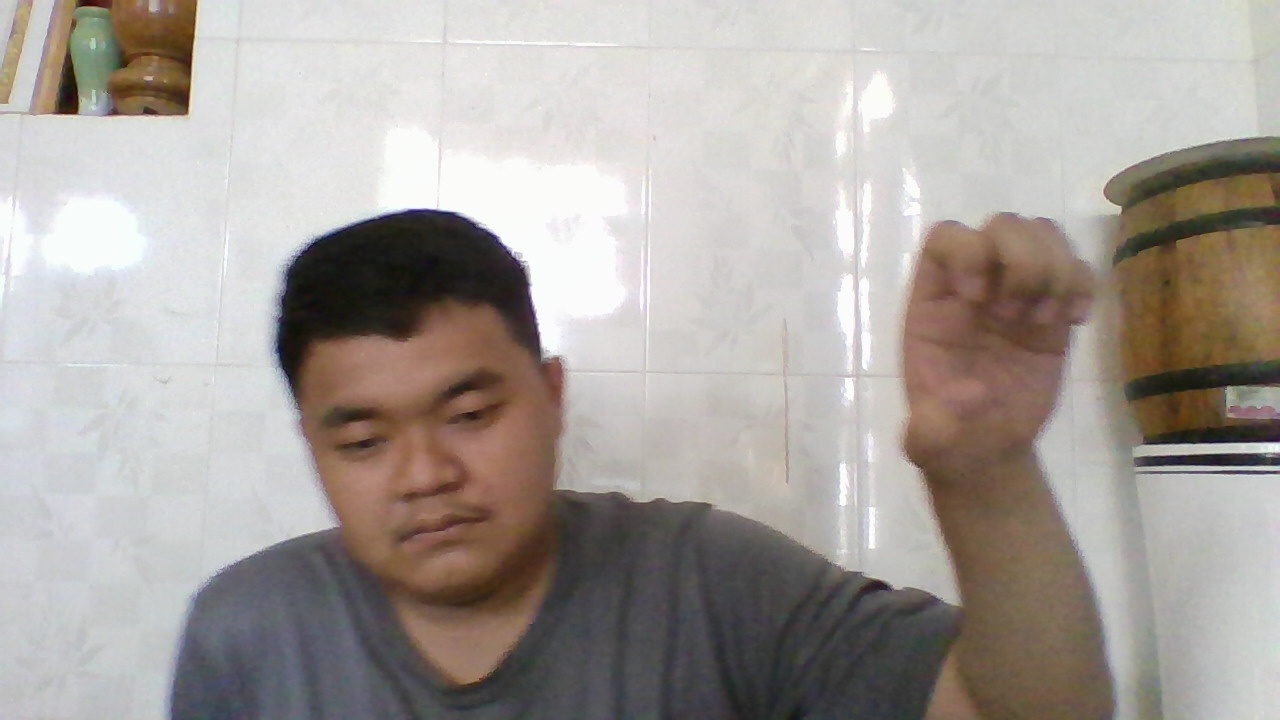E: (900, 205, 1103, 475)
